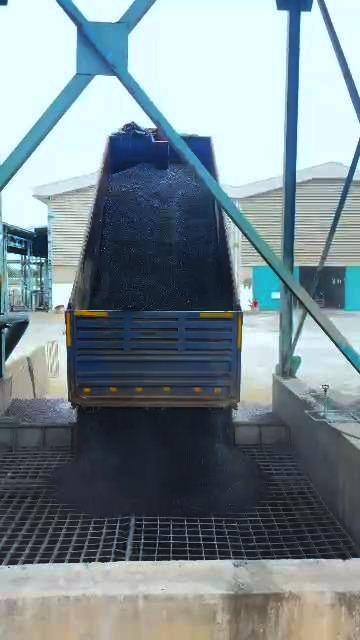gravel: (5, 398, 264, 515), (92, 164, 231, 310)
